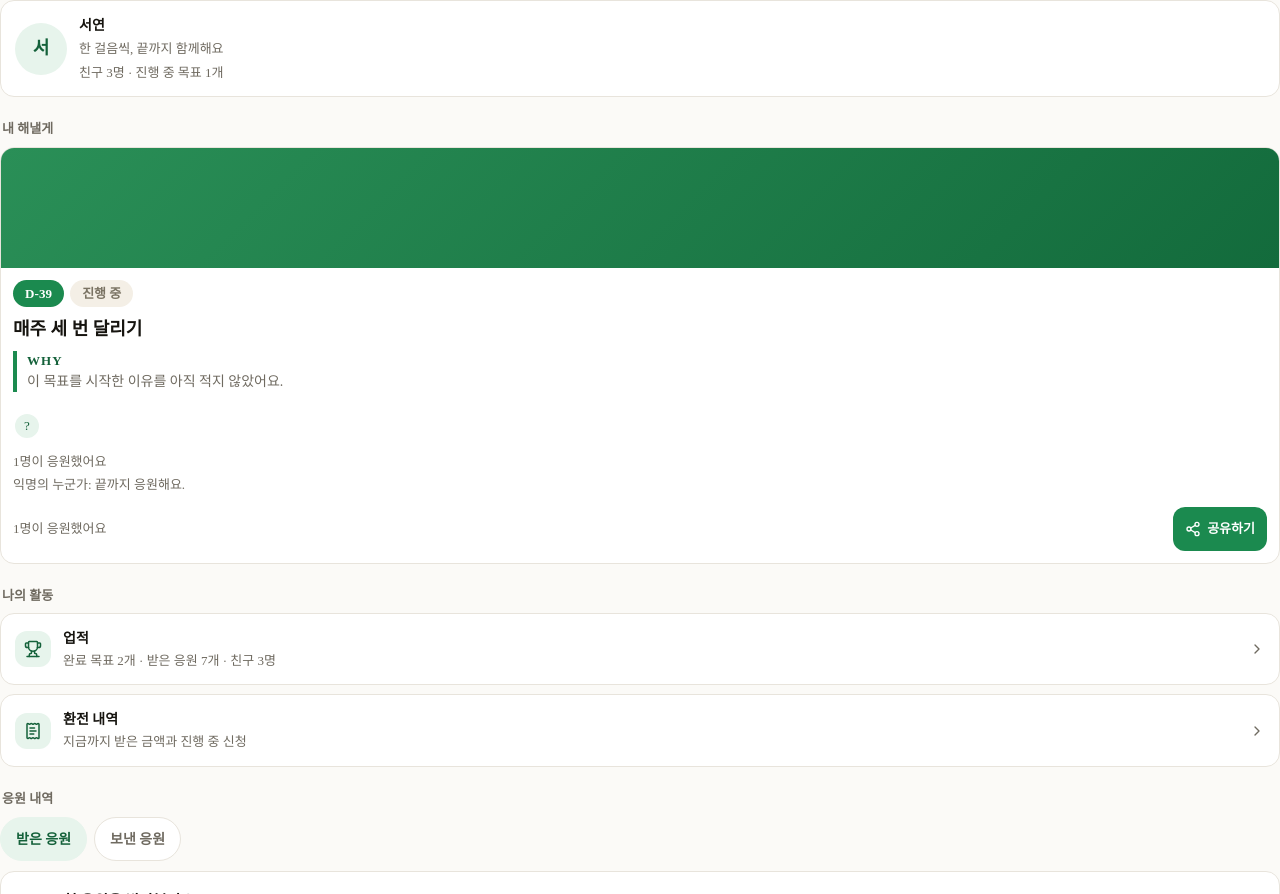
MyPageOverview › MY-UI-02 받은 응원과 보낸 응원 탭을 전환한다
This screenshot has width=1280, height=894.
Click the tab "보낸 응원" at (138, 839), box [94, 817, 181, 861]
(page scrolled)
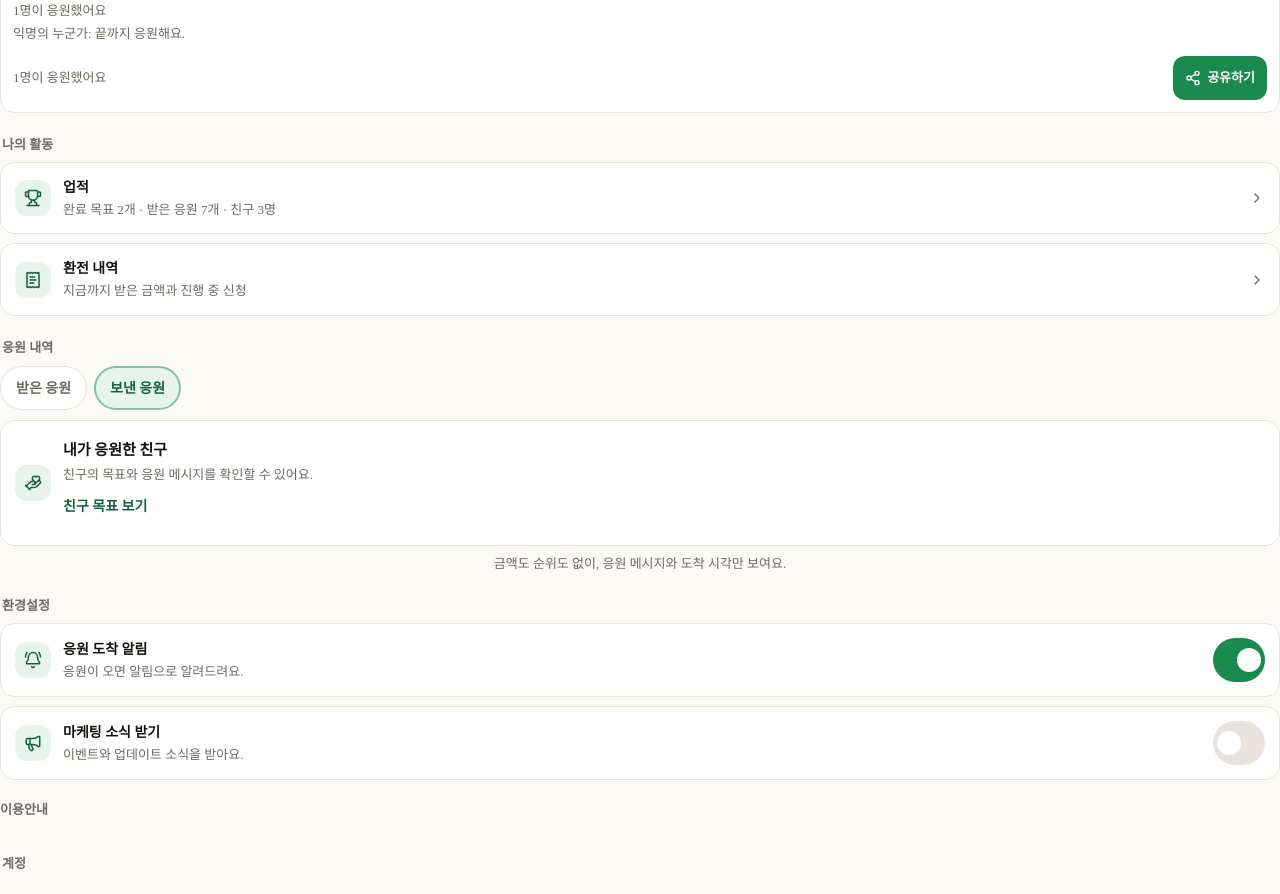
Now the text "내가 응원한 친구" is shown, box [63, 442, 167, 458]
